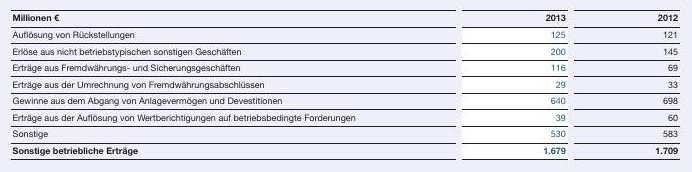table: (0, 0, 692, 172)
